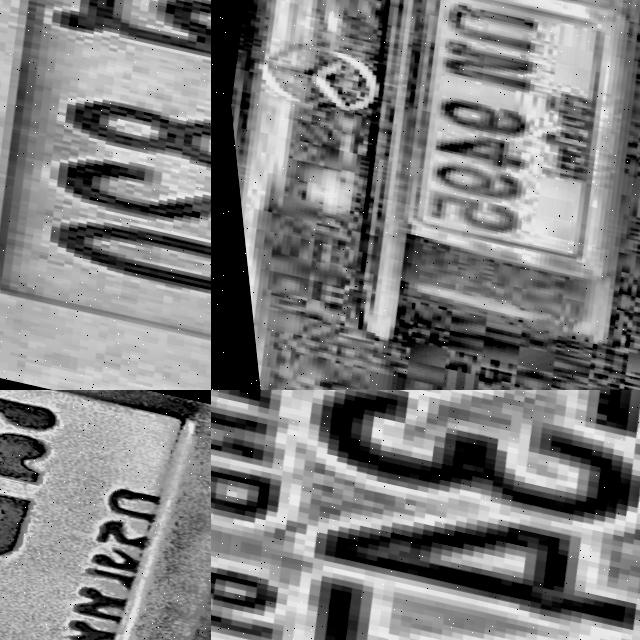license-plate: (303, 0, 640, 328), (211, 390, 640, 640), (0, 0, 211, 390), (0, 390, 211, 640)
